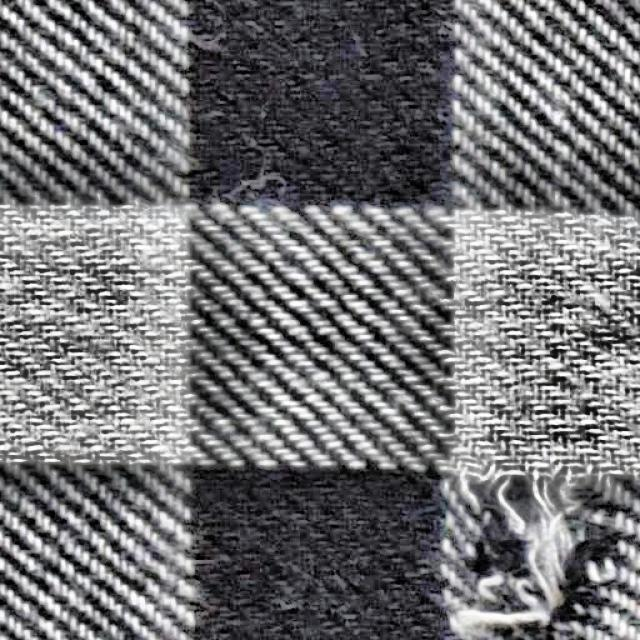Stitch: (406, 417, 640, 640)
